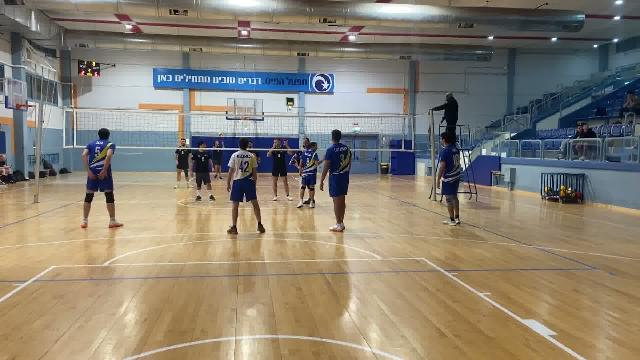ball: (216, 131, 227, 141)
